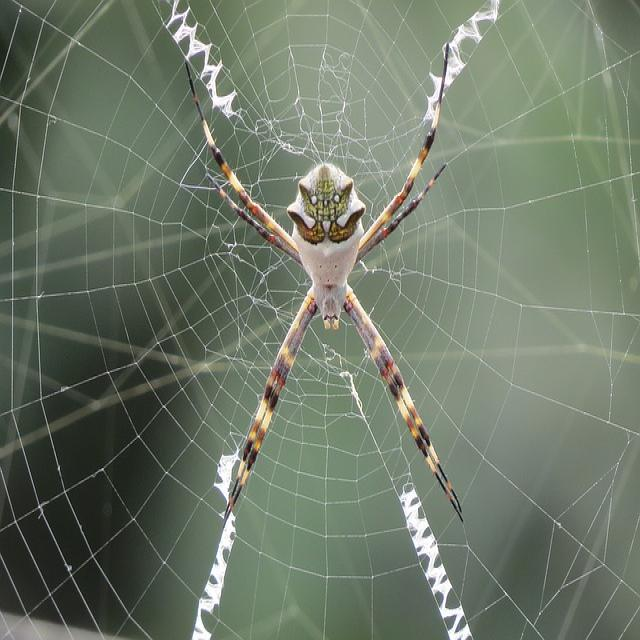spyder: (185, 45, 461, 526)
